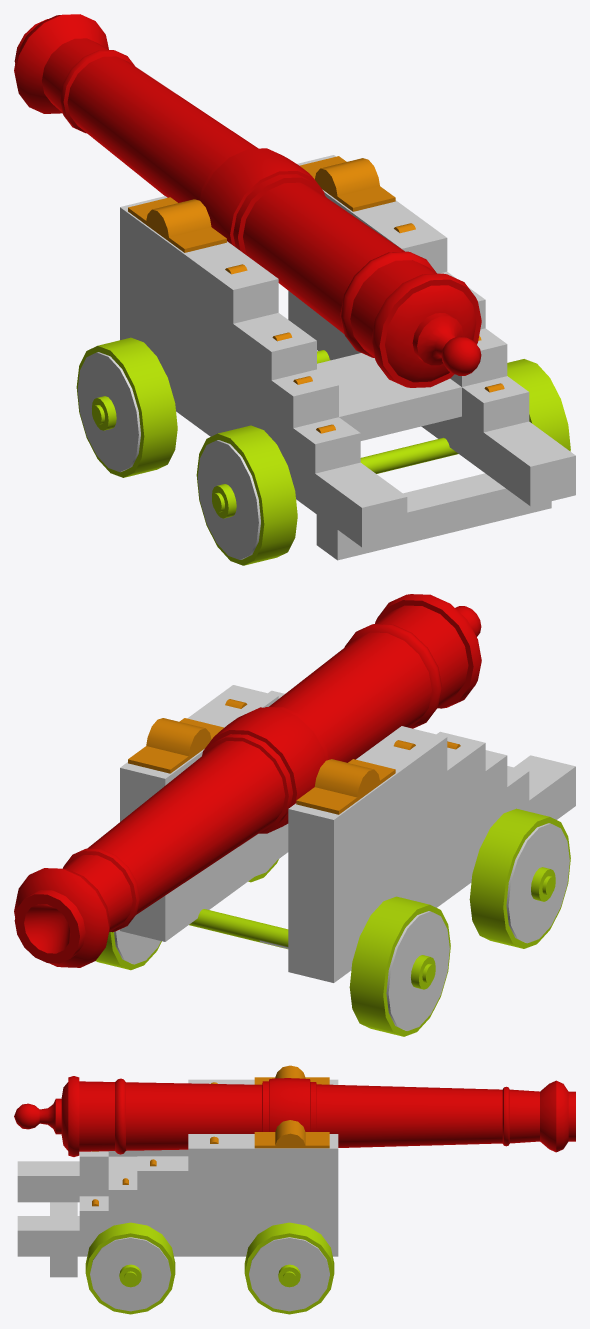
File: 8PounderLongGun.fbx
The picture shows the model from 3 angles, top to bottom: view 1: azimuth 30°, elevation 25°; view 2: azimuth 150°, elevation 25°; view 3: azimuth 270°, elevation 25°; orthographic projection. The views are drawn at different scales.
Visible parts, largest first — view 1: 8PounderLongGun_LOD0.008; view 2: 8PounderLongGun_LOD0.008; view 3: 8PounderLongGun_LOD0.008.
Part boxes in pixels (bbox=[...]): 8PounderLongGun_LOD0.008: bbox=[14, 14, 575, 565]; 8PounderLongGun_LOD0.008: bbox=[14, 594, 575, 1036]; 8PounderLongGun_LOD0.008: bbox=[14, 1065, 575, 1314].
Size of the model in its own units: 10.51 by 23.13 by 8.42.
